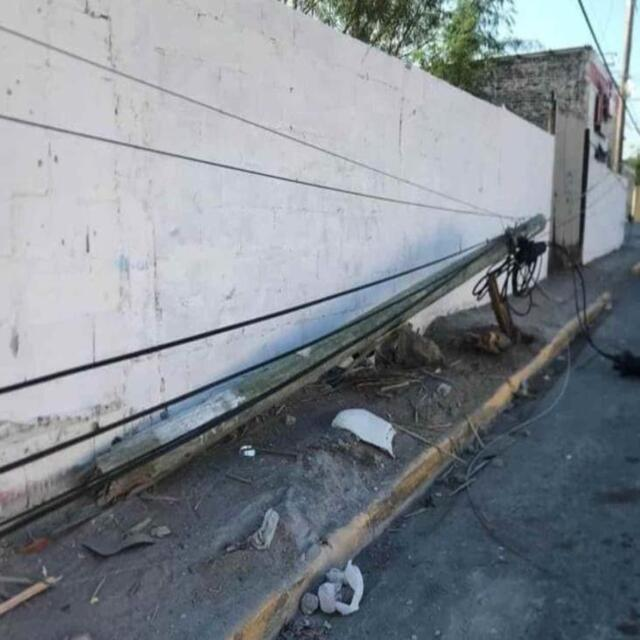Inclined Pole: (45, 202, 572, 546)
